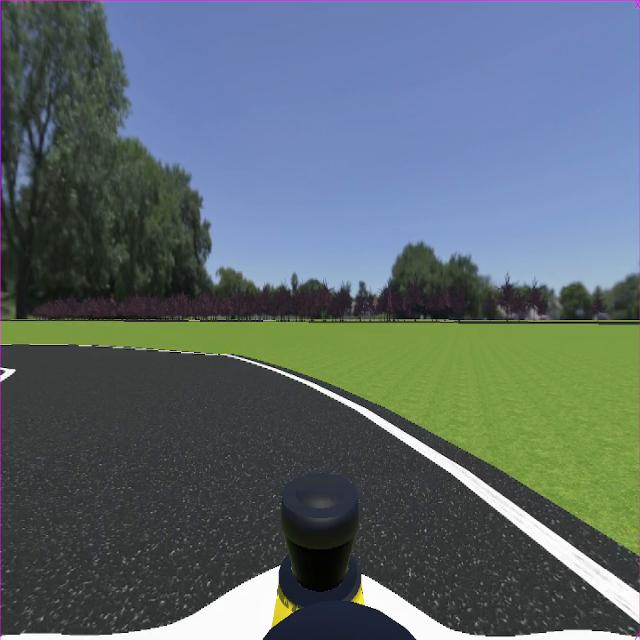road: (2, 348, 631, 634)
solid_line: (226, 355, 640, 621), (0, 367, 15, 382)
